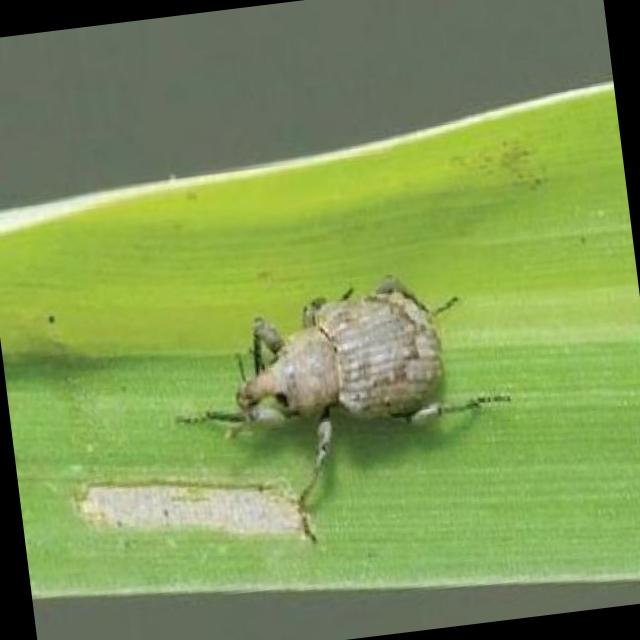rice-bug: (215, 276, 460, 498)
